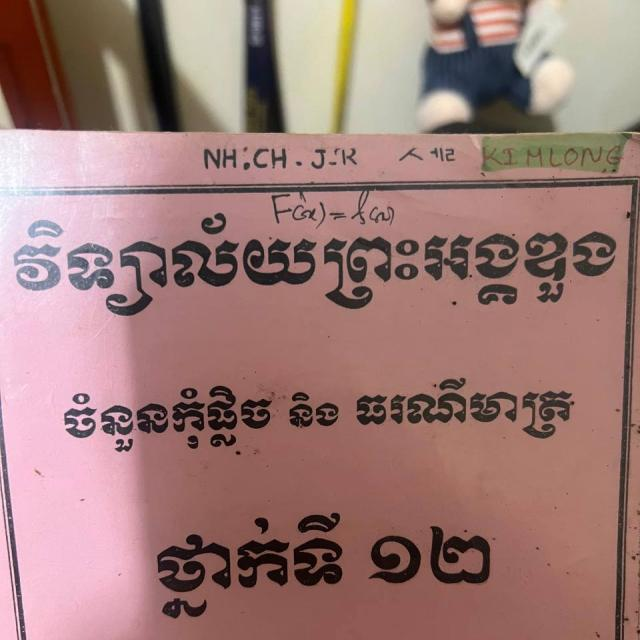2: (54, 368, 592, 466)
Yolov11kh: (4, 209, 629, 336), (135, 500, 503, 626)
